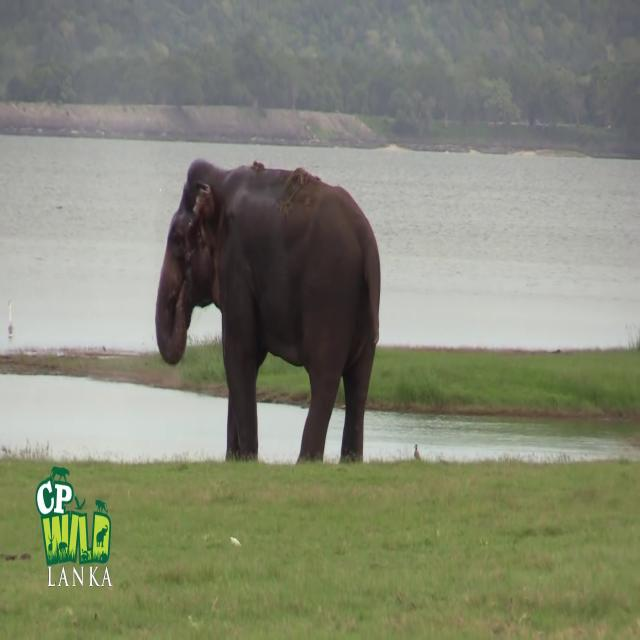Elephant: (155, 158, 381, 464)
